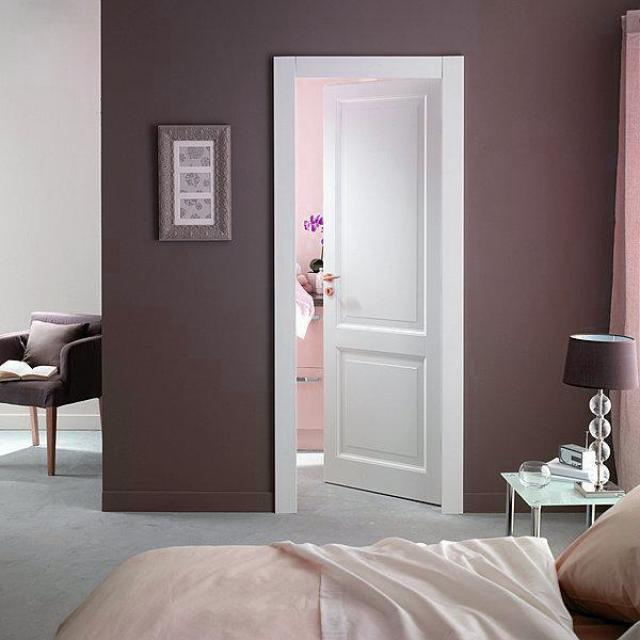Door: (321, 78, 444, 505)
